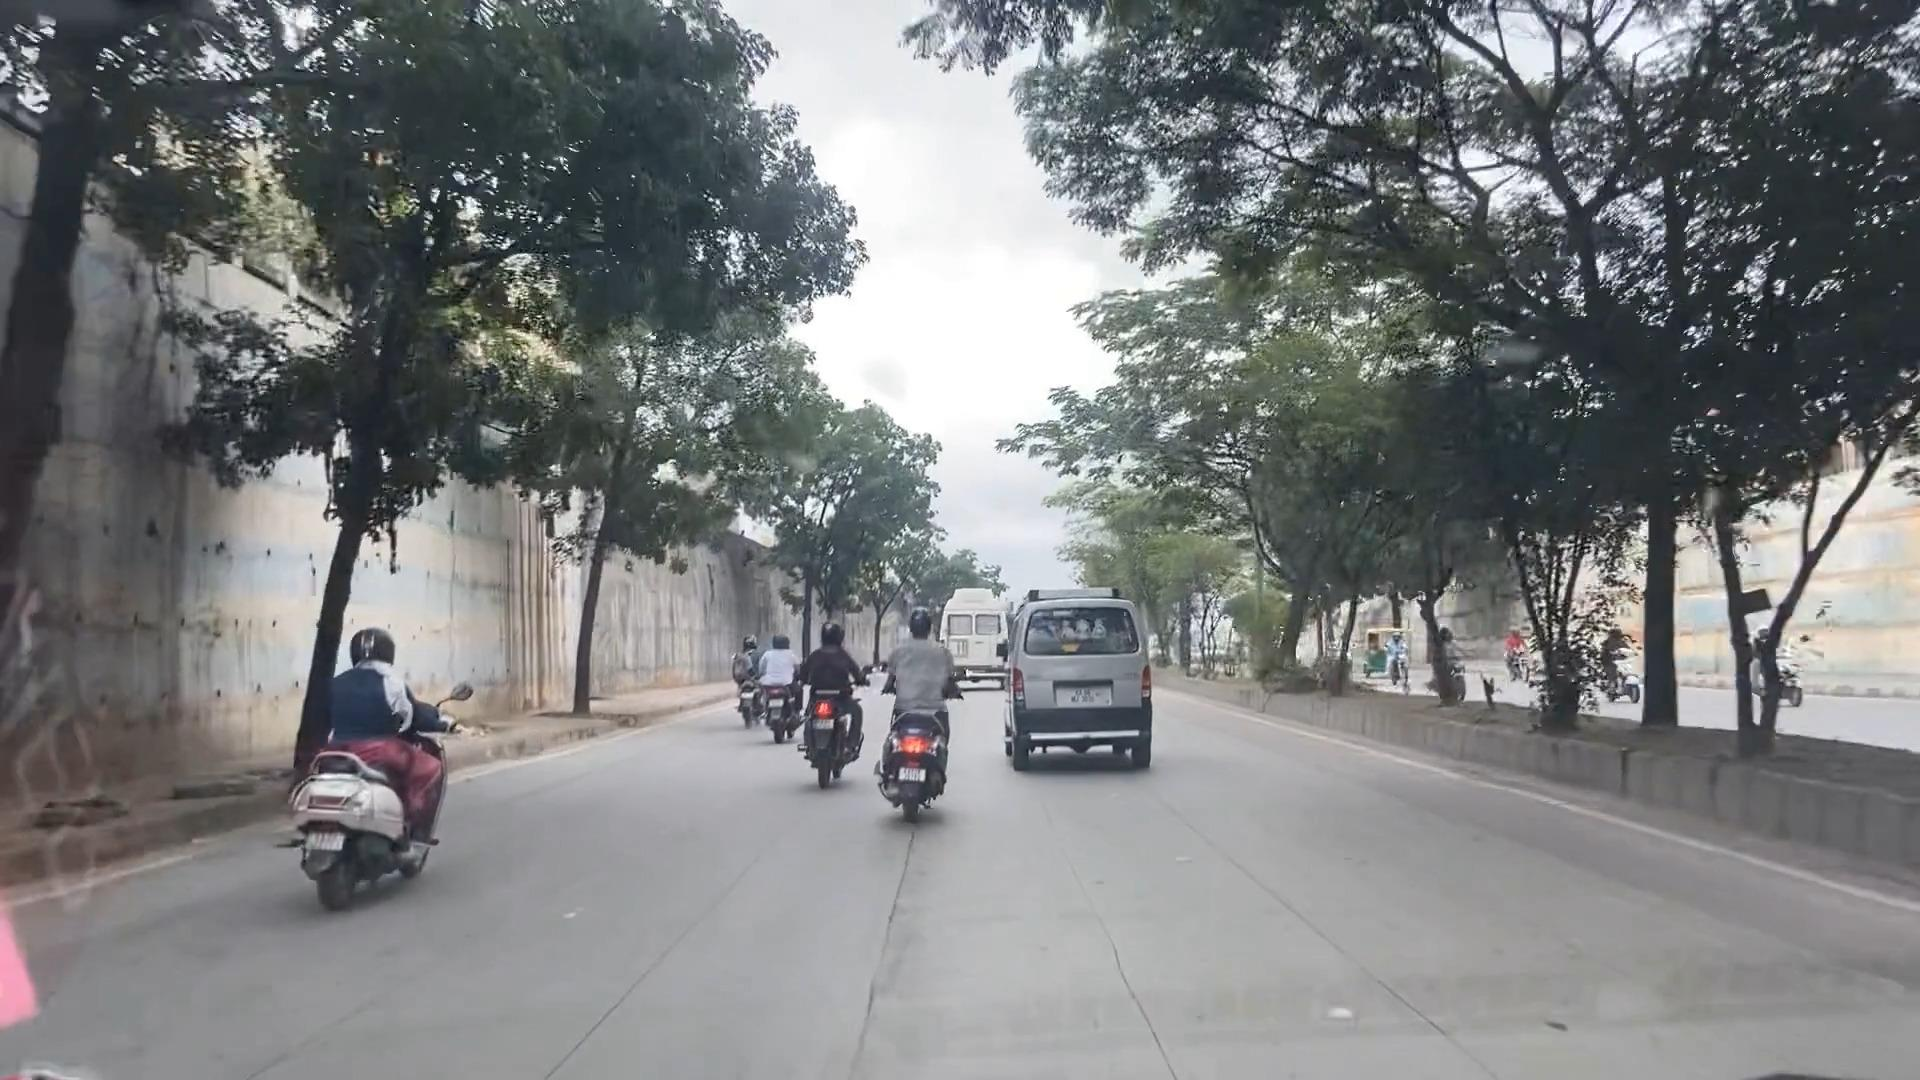LMV: (306, 593, 471, 882), (988, 571, 1167, 777), (886, 580, 965, 855), (795, 585, 864, 789)
